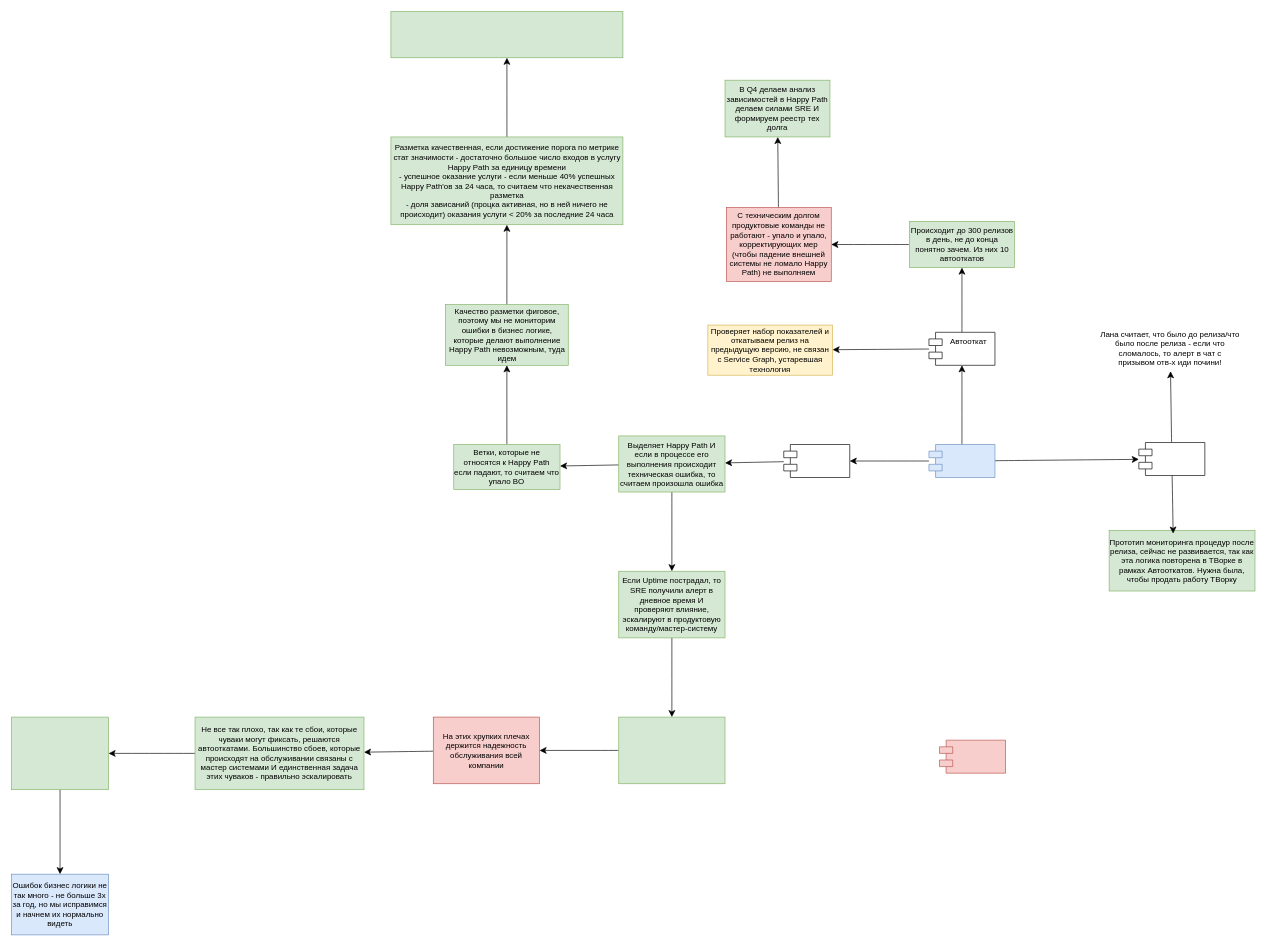
This 1267x946 diagram has some shape labels left out. The box of each missing label's shape, as (x1, y1, x2, y2) in pixels:
Lana: (1138, 442, 1205, 476)
ServiceGraph: (783, 444, 850, 478)
В ОКРах команд на Q4 - чтобы у них были качественные покзаатели: (390, 11, 623, 58)
В этой команде 3 Джуна: (618, 716, 725, 784)
Если есть техническая ошибка, то работают, а если бизнес ошибка, то не работают: (11, 716, 109, 790)
Крупные сбои: (939, 740, 1006, 773)
Похвастаться: (928, 444, 995, 478)
